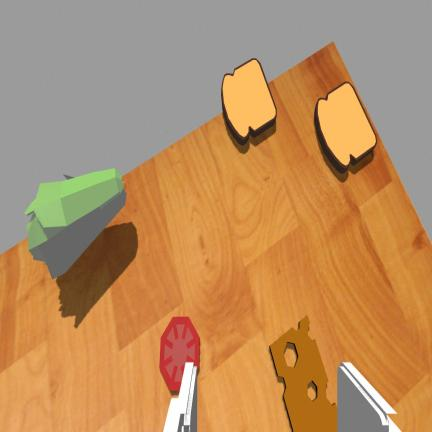cheese: (270, 316, 337, 431)
lettuce: (25, 169, 126, 278)
sliced_bread: (315, 82, 377, 172), (222, 59, 276, 143)
sliced_tomato: (160, 317, 198, 389)
